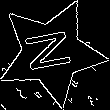N_E: (22, 28, 81, 77)
